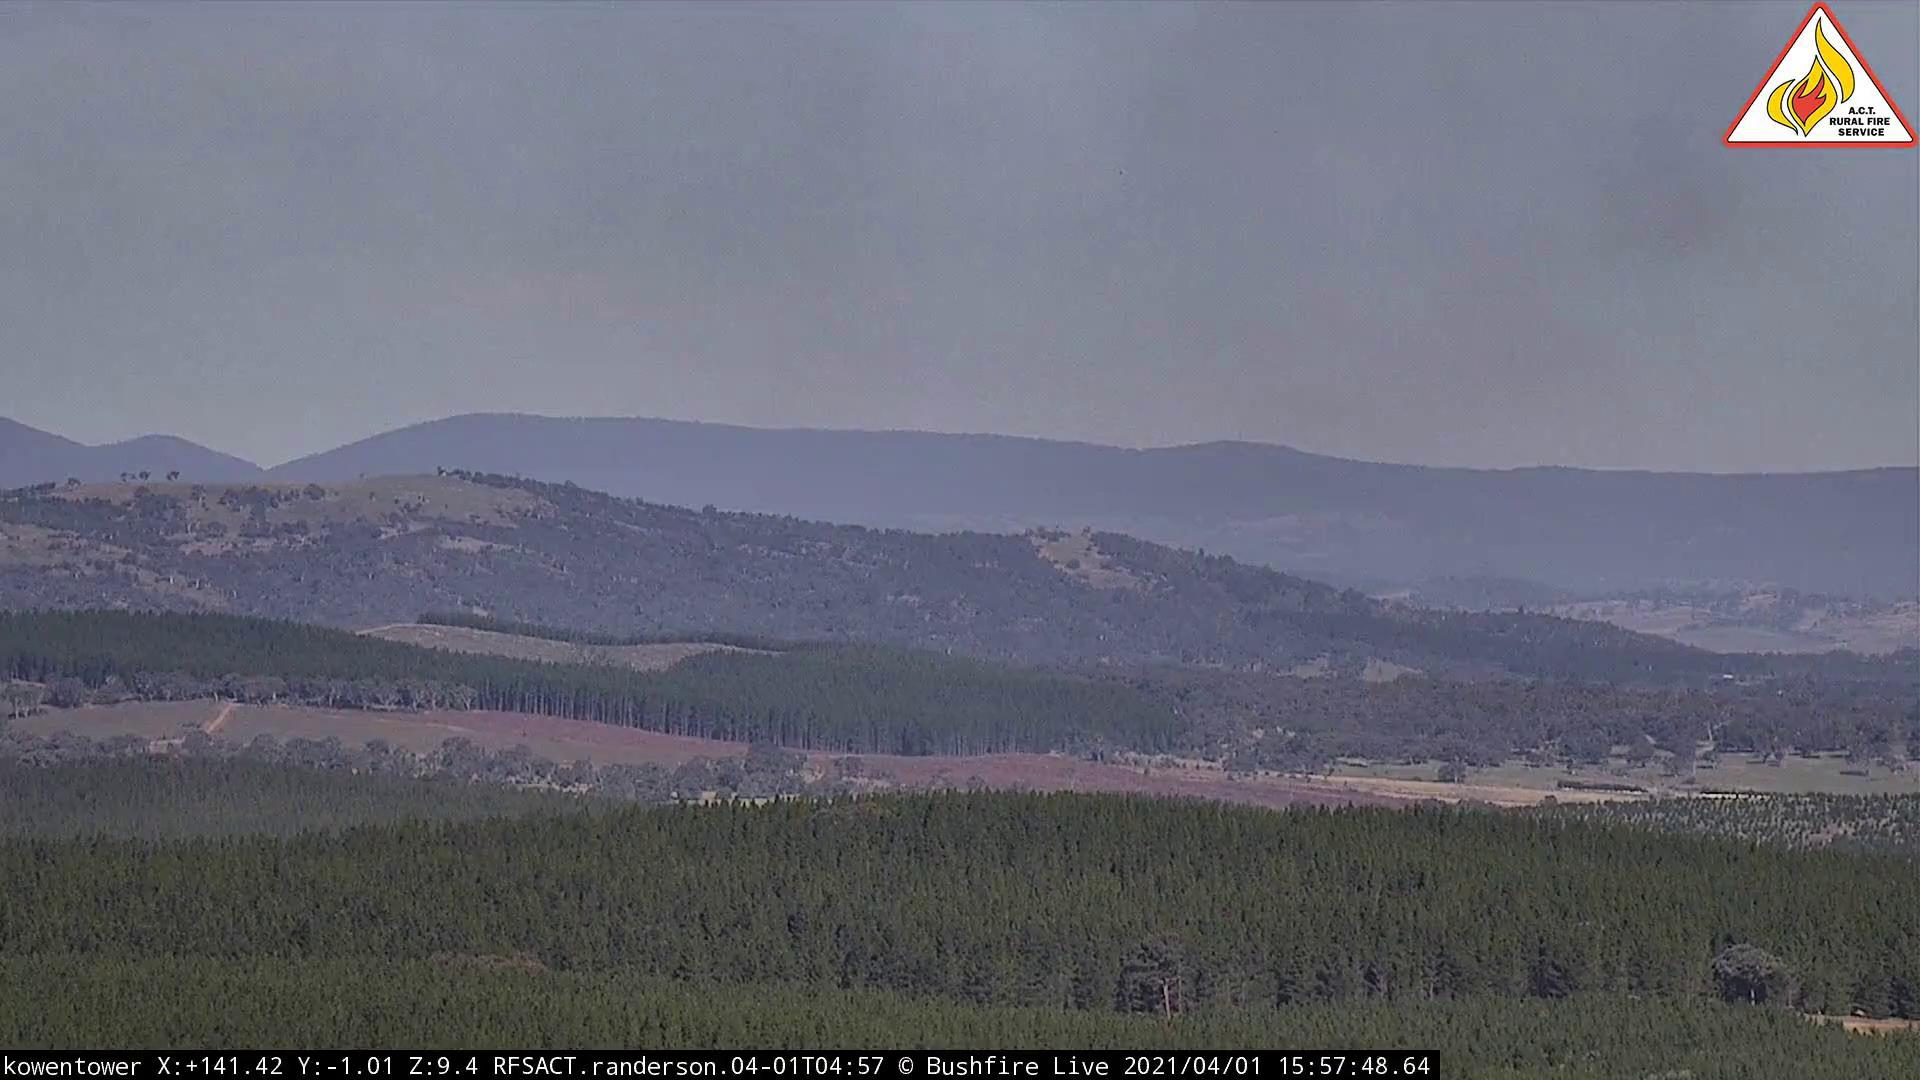Smoke: (473, 3, 1615, 585)
